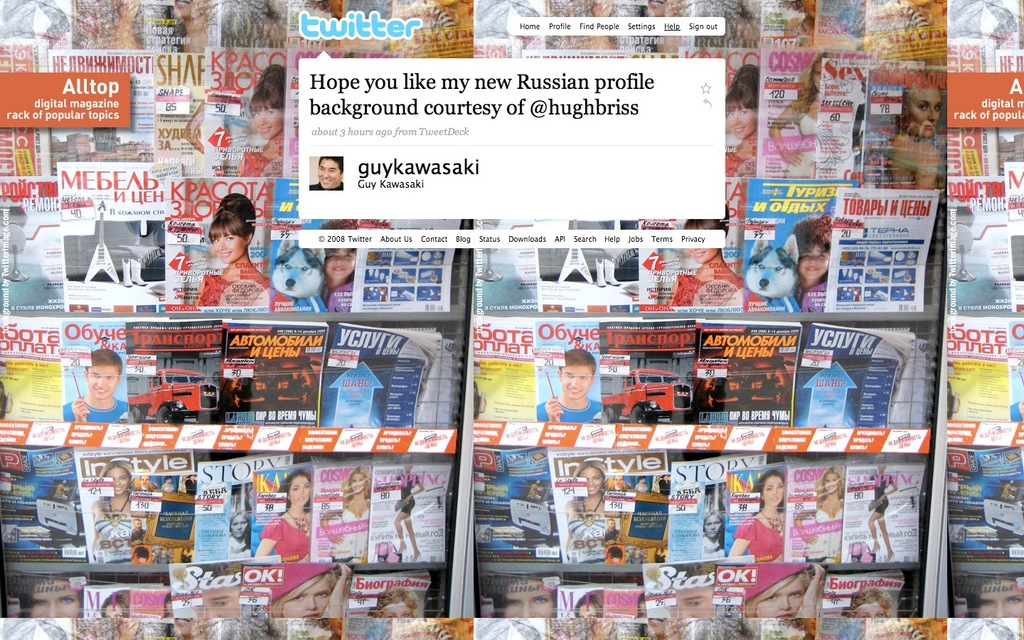Person: (0, 0, 1024, 640)
